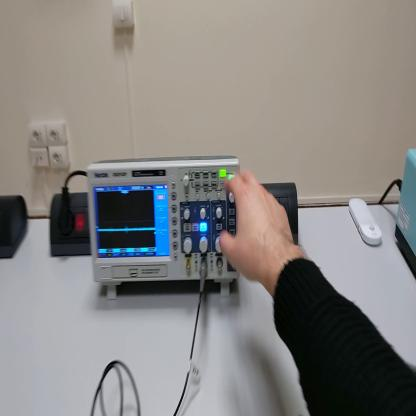hand: (219, 169, 296, 284)
oscilloscope: (83, 156, 239, 303)
socket: (49, 190, 94, 259), (2, 193, 31, 258)
welder station: (398, 145, 416, 279)
